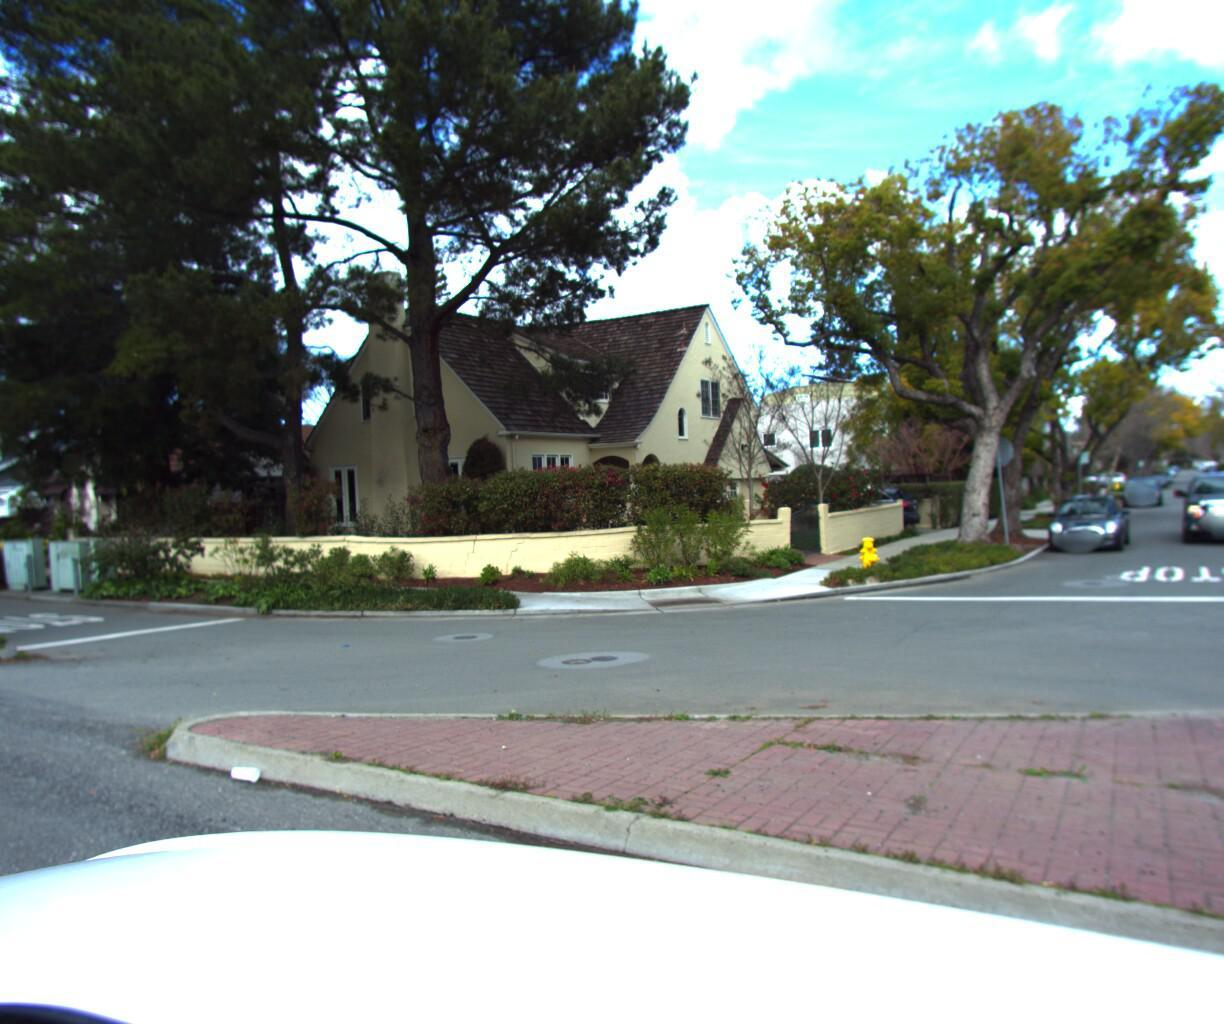car: (782, 488, 928, 541), (1038, 494, 1137, 557), (1171, 473, 1224, 549), (1120, 487, 1165, 515)
